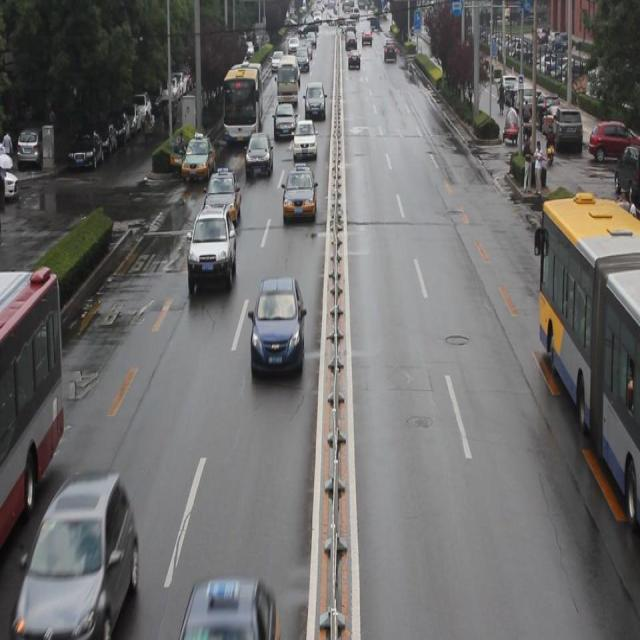car: (16, 478, 139, 630), (250, 276, 306, 378), (186, 209, 238, 289), (202, 170, 241, 226), (282, 167, 316, 222), (183, 134, 216, 184), (244, 132, 271, 177), (291, 118, 316, 159), (274, 103, 296, 140)
van: (532, 185, 640, 522), (1, 265, 66, 552), (223, 62, 261, 143)
